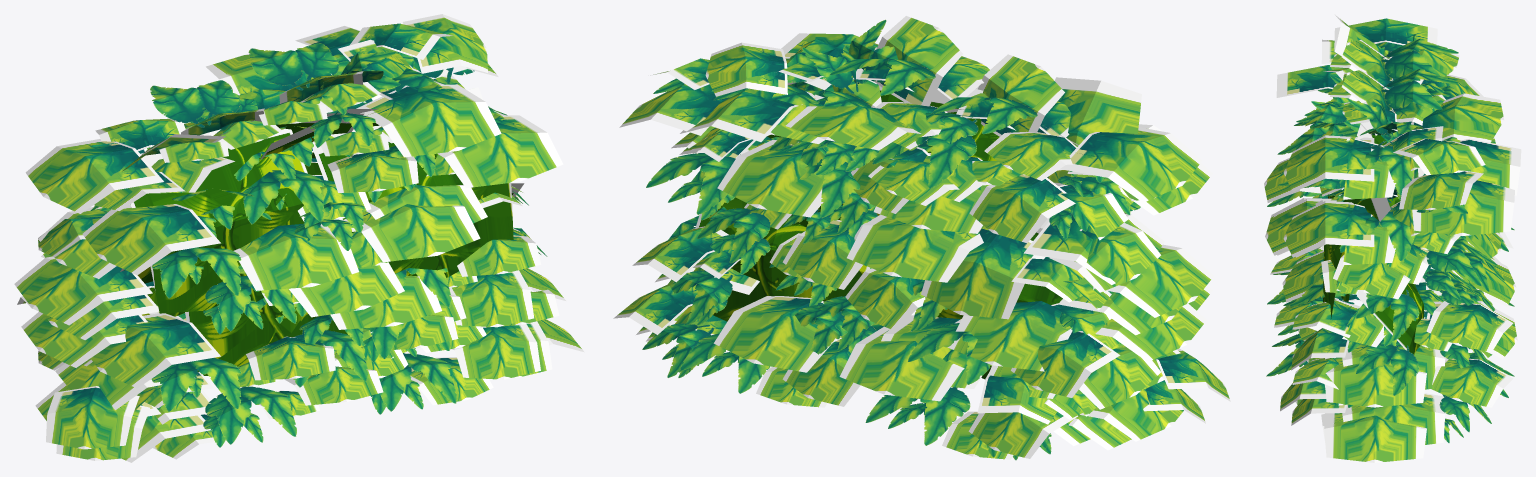
The model's file is SM_HedgeWallGold.fbx.
The picture shows the model from 3 angles, left to right: view 1: azimuth 30°, elevation 25°; view 2: azimuth 150°, elevation 25°; view 3: azimuth 270°, elevation 25°; orthographic projection. The views are drawn at different scales.
Parts seen in each view (by area): view 1: HedgeWallMesh; view 2: HedgeWallMesh; view 3: HedgeWallMesh.
Boxes of the visible parts, bbox=[...] form: HedgeWallMesh: bbox=[14, 14, 584, 462]; HedgeWallMesh: bbox=[613, 16, 1230, 460]; HedgeWallMesh: bbox=[1264, 15, 1521, 462].
Bounding box in the file's own units: 718 × 427 × 352.
